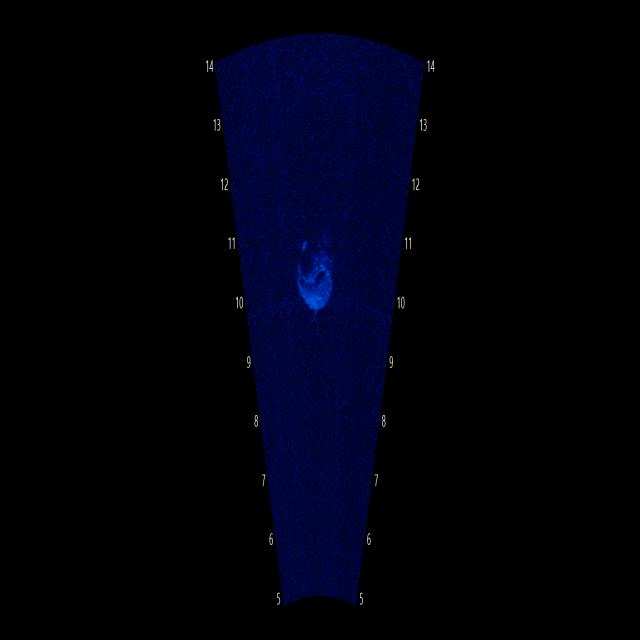circle: (290, 206, 342, 320)
